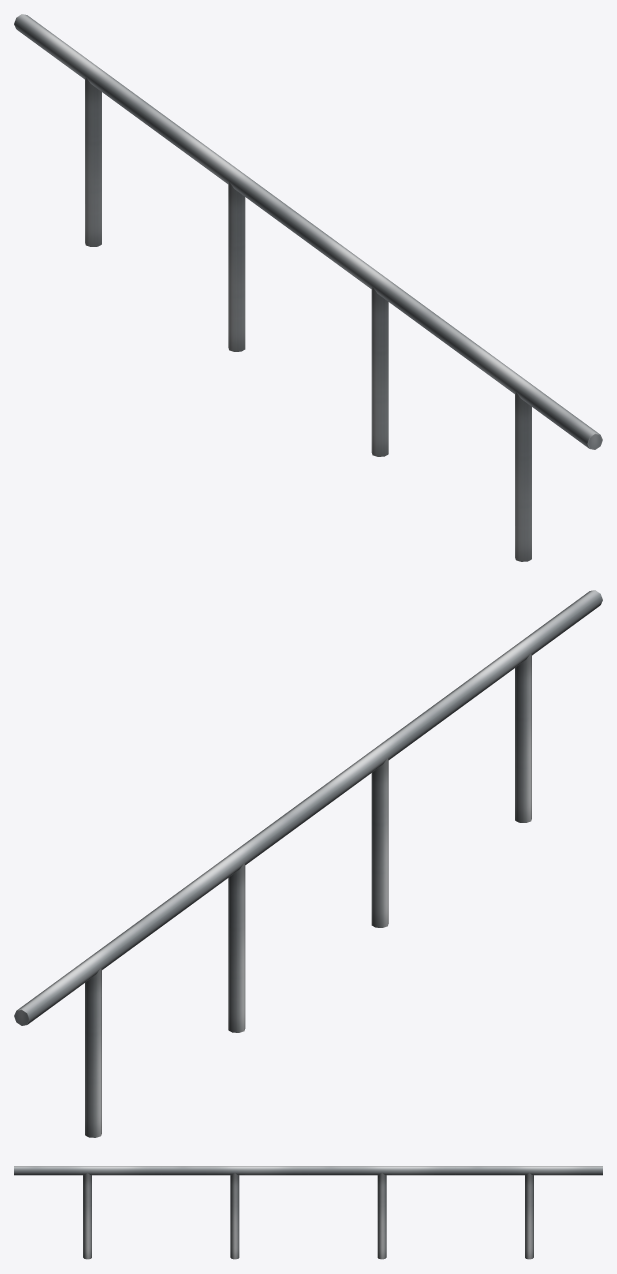
File: set_handrail_straight_01.fbx
3 views of the same model, one above another, from view 1: azimuth 30°, elevation 25°; view 2: azimuth 150°, elevation 25°; view 3: azimuth 270°, elevation 25° (orthographic). The views are drawn at different scales.
Visible parts, largest first — view 1: set_handrail_straight_01; view 2: set_handrail_straight_01; view 3: set_handrail_straight_01.
Part boxes in pixels (box(x1,y1,x2,y2)): set_handrail_straight_01: box(14, 14, 602, 561); set_handrail_straight_01: box(14, 590, 602, 1137); set_handrail_straight_01: box(14, 1166, 602, 1259).
Size of the model in its own units: 6.29 by 68.15 by 400.
